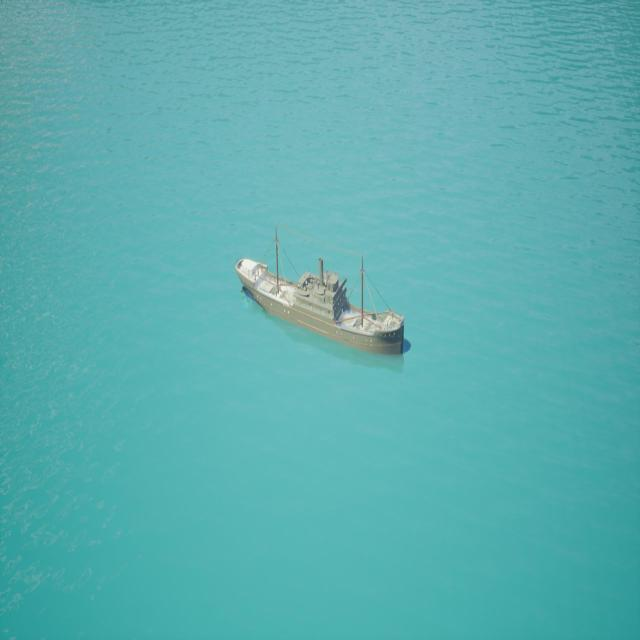fishing ship: (235, 225, 408, 362)
